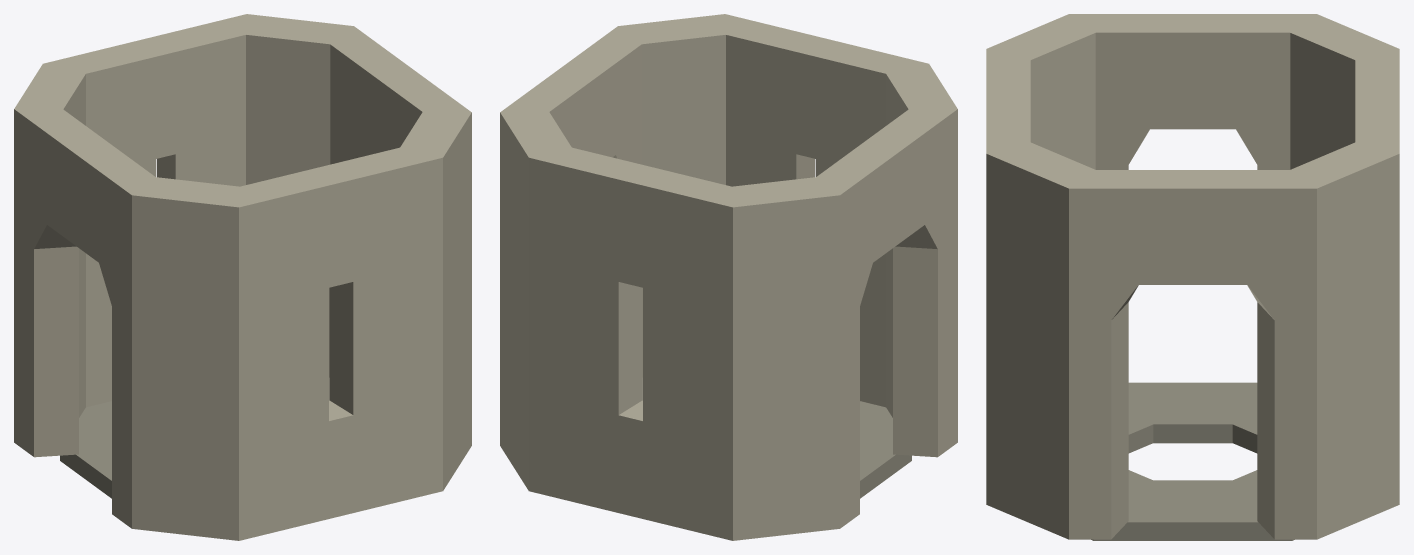
The model's file is wall_walk_turret.glb.
3 views of the same model, side by side, from view 1: azimuth 30°, elevation 25°; view 2: azimuth 150°, elevation 25°; view 3: azimuth 270°, elevation 25° (orthographic). The views are drawn at different scales.
Visible parts, largest first — view 1: Wall-walk turret; view 2: Wall-walk turret; view 3: Wall-walk turret.
Boxes of the visible parts, x1,y1,x2,y2 form: Wall-walk turret: [14, 14, 471, 540]; Wall-walk turret: [500, 14, 957, 540]; Wall-walk turret: [986, 14, 1399, 540].
Size of the model in its own units: 2 by 1.98 by 2.
